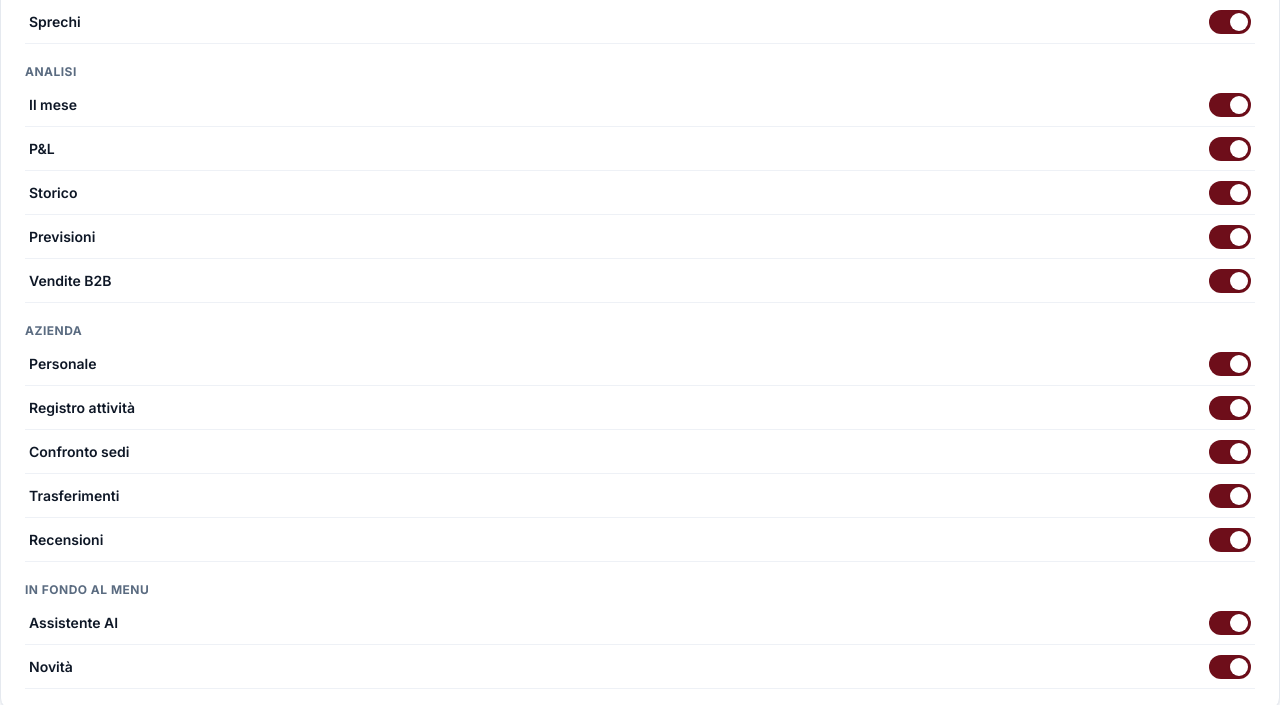
Test: Impostazioni → Voci del menu › spegnere salva l'elenco nuovo dell'azienda e avvisa il menu
(page scrolled)
Step 1. Click the switch labelled "Recensioni" → [66, 540], box [25,518,1255,562]
(page scrolled)
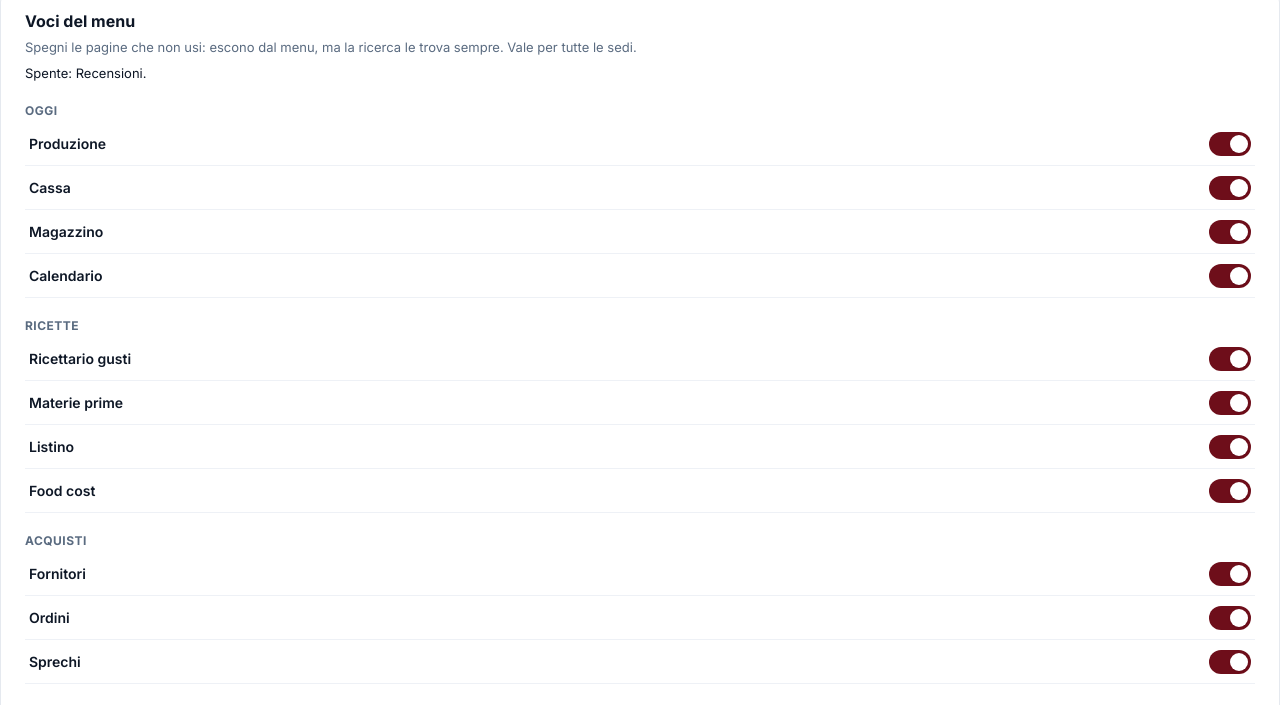
Result: the text "Spente: Recensioni." is shown at [25,65,146,81]
